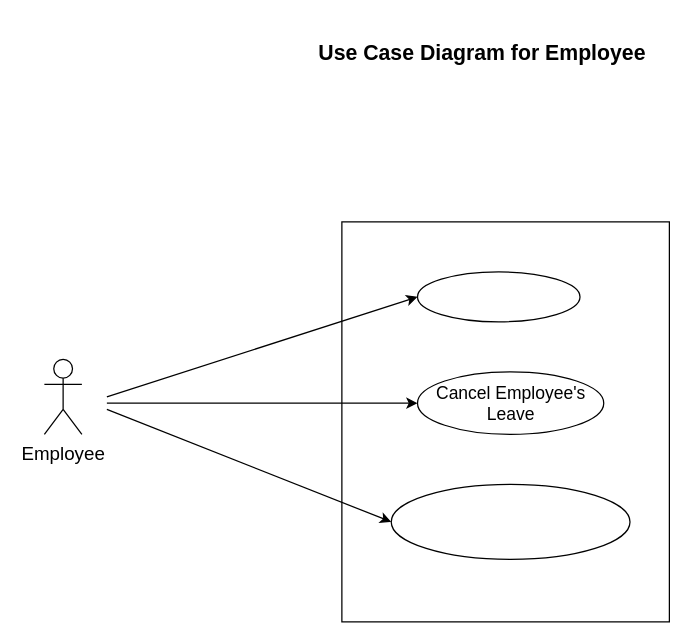
Image size: 691x644. Some labels were removed from this diagram. Each missing label, with the centre of its shape:
"Add Employee's Leave" belongs at point 498,296.
"Check the no. of Employee's leaves in current year" belongs at point 510,521.
